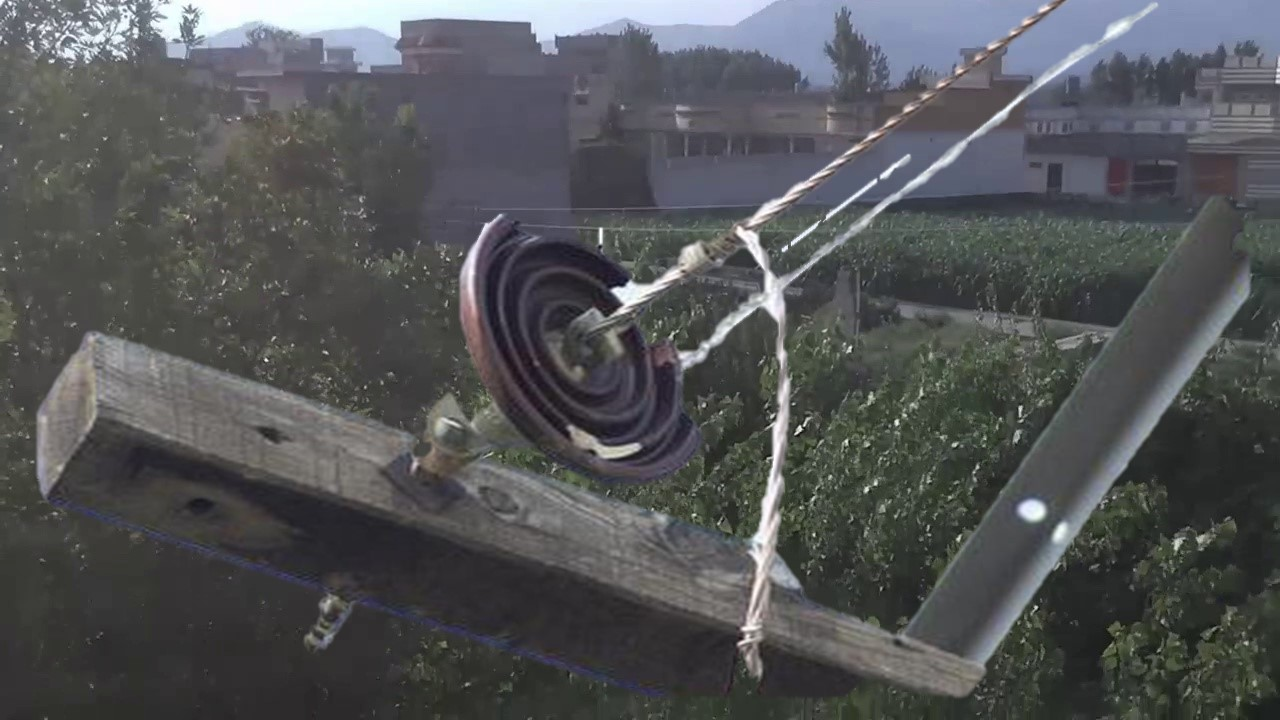defect_disc: (453, 198, 708, 491)
